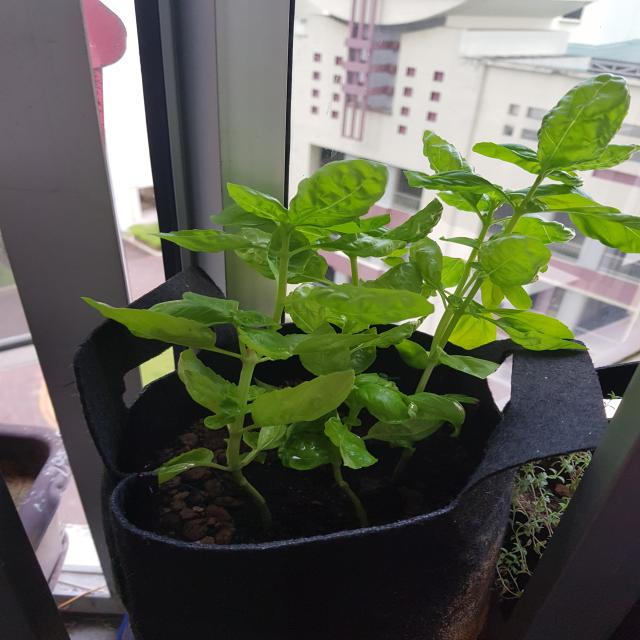Sweet Basil: (77, 66, 640, 441)
Thyme: (490, 447, 585, 590)
